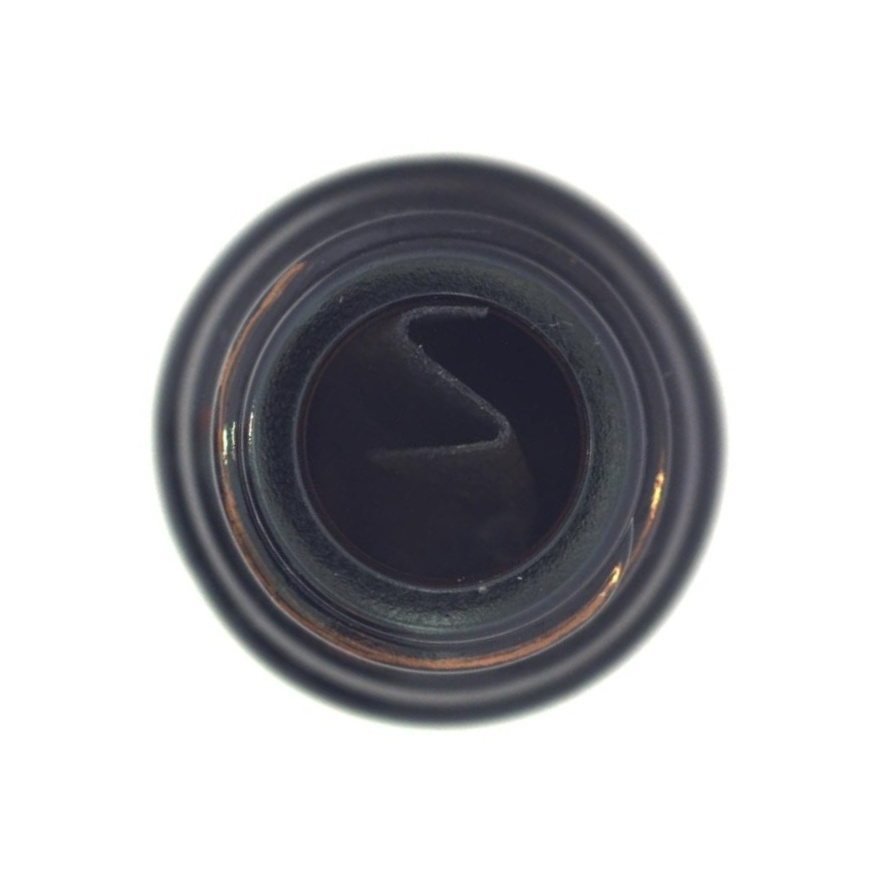bad-contamination: (46, 42, 840, 830)
